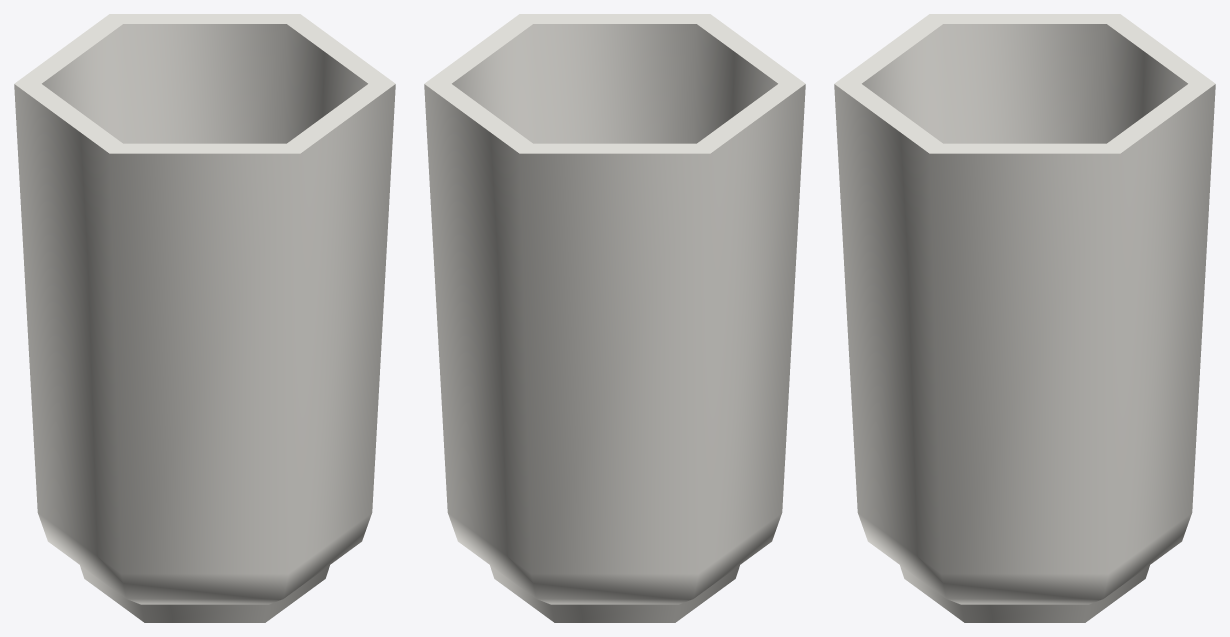
Rendered from SM_Glass_Water_02.fbx.
The picture shows the model from 3 angles, left to right: view 1: azimuth 30°, elevation 25°; view 2: azimuth 150°, elevation 25°; view 3: azimuth 270°, elevation 25°; orthographic projection.
Visible parts, largest first — view 1: SM_Glass_Water_02; view 2: SM_Glass_Water_02; view 3: SM_Glass_Water_02.
Boxes of the visible parts, bbox=[...] form: SM_Glass_Water_02: bbox=[14, 14, 395, 622]; SM_Glass_Water_02: bbox=[424, 14, 805, 622]; SM_Glass_Water_02: bbox=[834, 14, 1215, 622].
Bounding box in the file's own units: 10.89 × 18 × 12.58.
